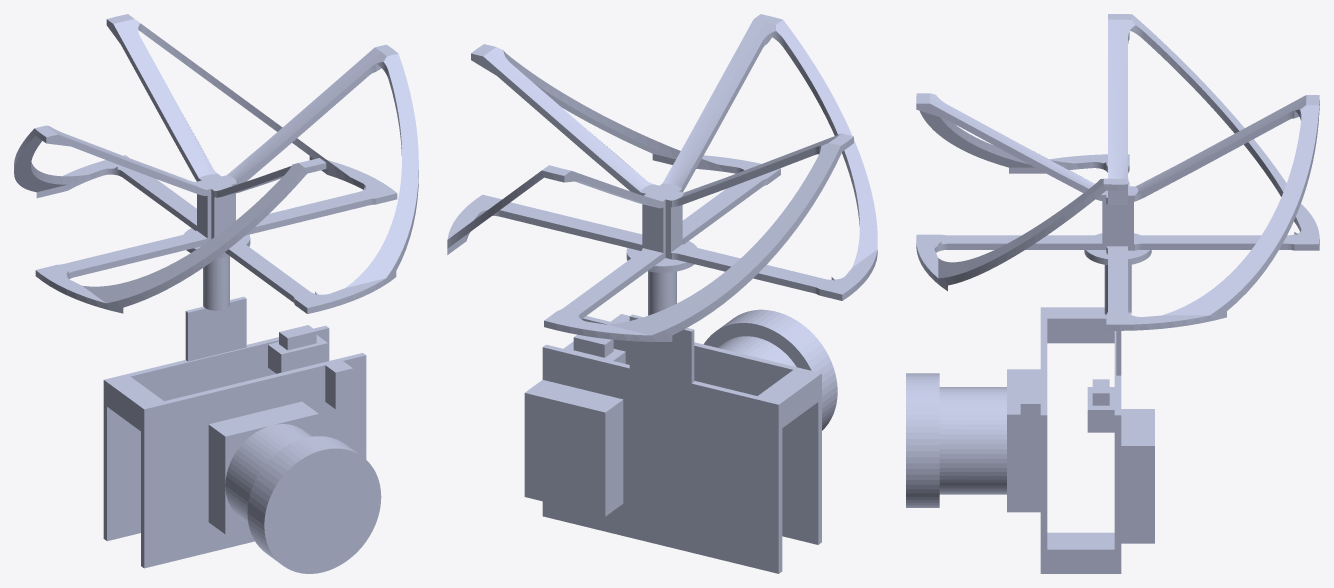
The model's file is eachine_camera.dae.
3 views of the same model, side by side, from view 1: azimuth 30°, elevation 25°; view 2: azimuth 150°, elevation 25°; view 3: azimuth 270°, elevation 25° (orthographic). The views are drawn at different scales.
Visible parts, largest first — view 1: Part 1; view 2: Part 1; view 3: Part 1.
Boxes of the visible parts, x1,y1,x2,y2 form: Part 1: (14, 14, 418, 573); Part 1: (447, 14, 877, 573); Part 1: (906, 14, 1319, 573).
Bounding box in the file's own units: 0.03 × 0.0307 × 0.0345.
